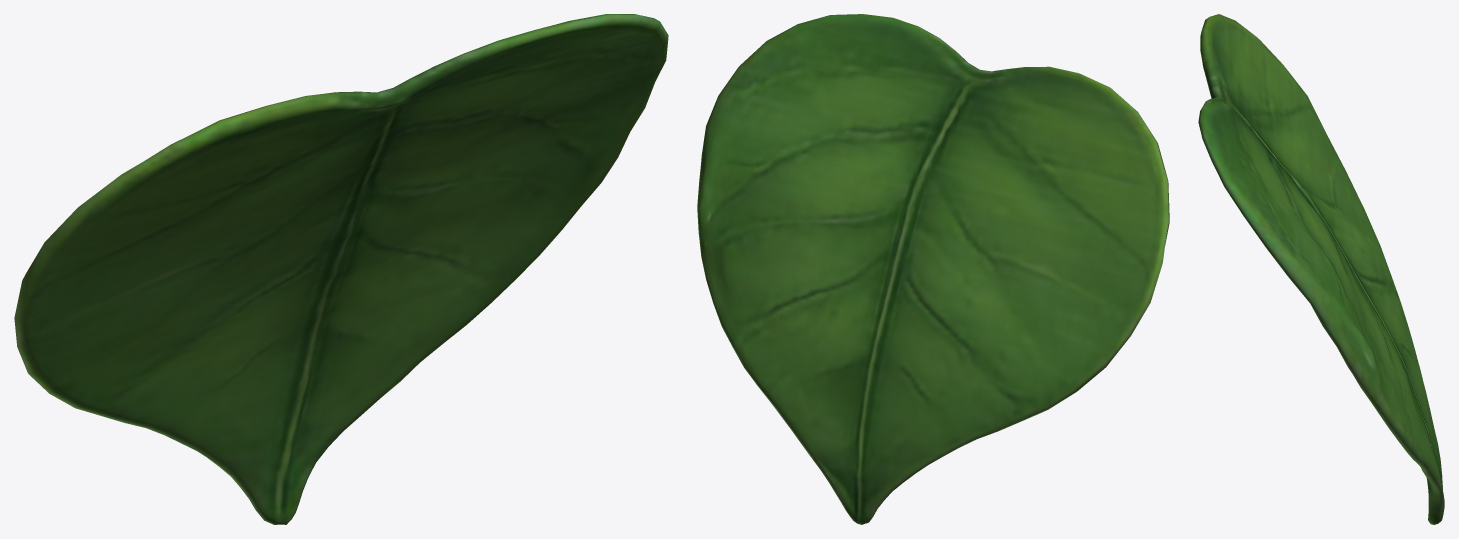
The model's file is d8e89fb1b07d_e2b4b6d11da6_plantage_leaf__3d_a.glb.
3 renders of one model, left to right at view 1: azimuth 30°, elevation 25°; view 2: azimuth 150°, elevation 25°; view 3: azimuth 270°, elevation 25°, orthographic. The views are drawn at different scales.
Visible parts, largest first — view 1: mesh; view 2: mesh; view 3: mesh.
Part boxes in pixels (x1,y1,x2,y2): mesh: (14,14,668,524); mesh: (697,14,1169,524); mesh: (1198,14,1444,524).
Bounding box in the file's own units: 0.9986 × 0.8646 × 0.4343.
Materials: 1 (1 with a texture image).
